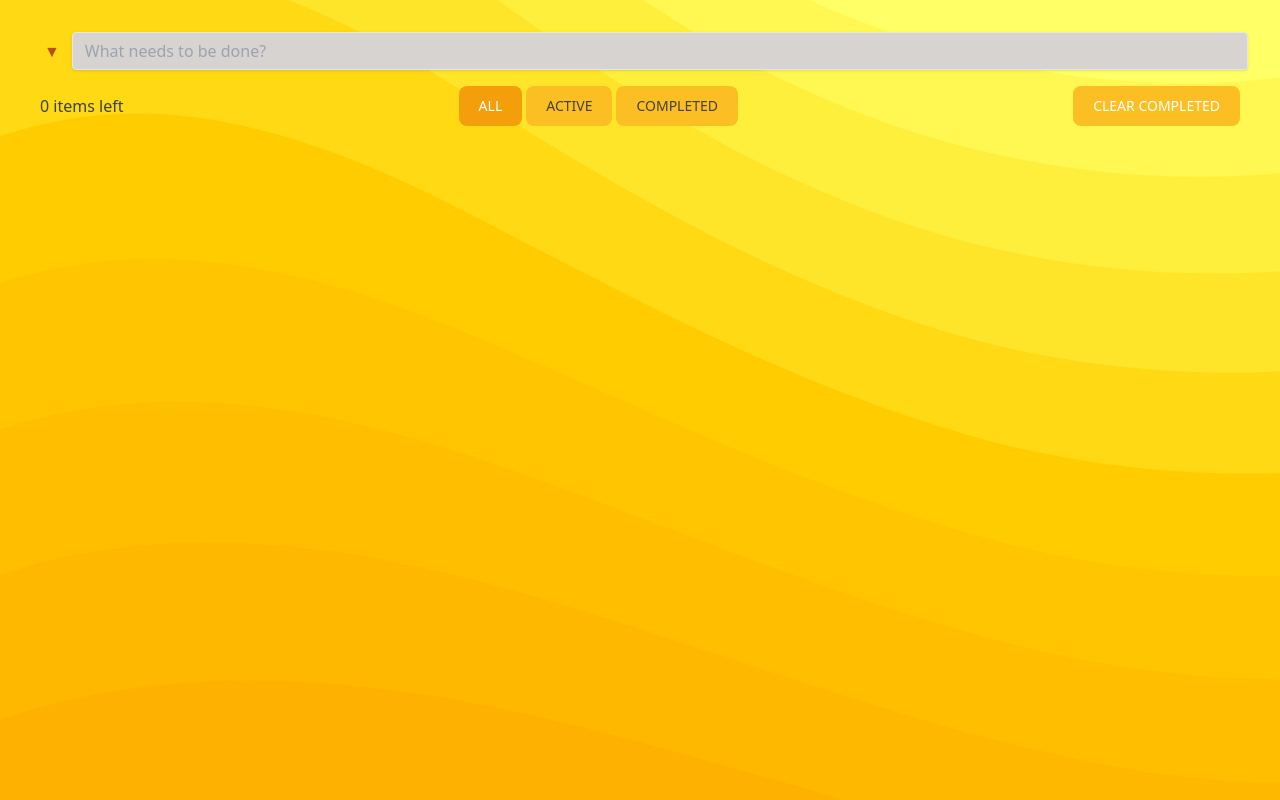
Test: Main › click on checkbox to make it completed
The width and height of the screenshot is (1280, 800).
Type "Test todo" into the field with placeholder "What needs to be done?".
click(660, 51); type("Test todo")  # box [72,32,1248,70]
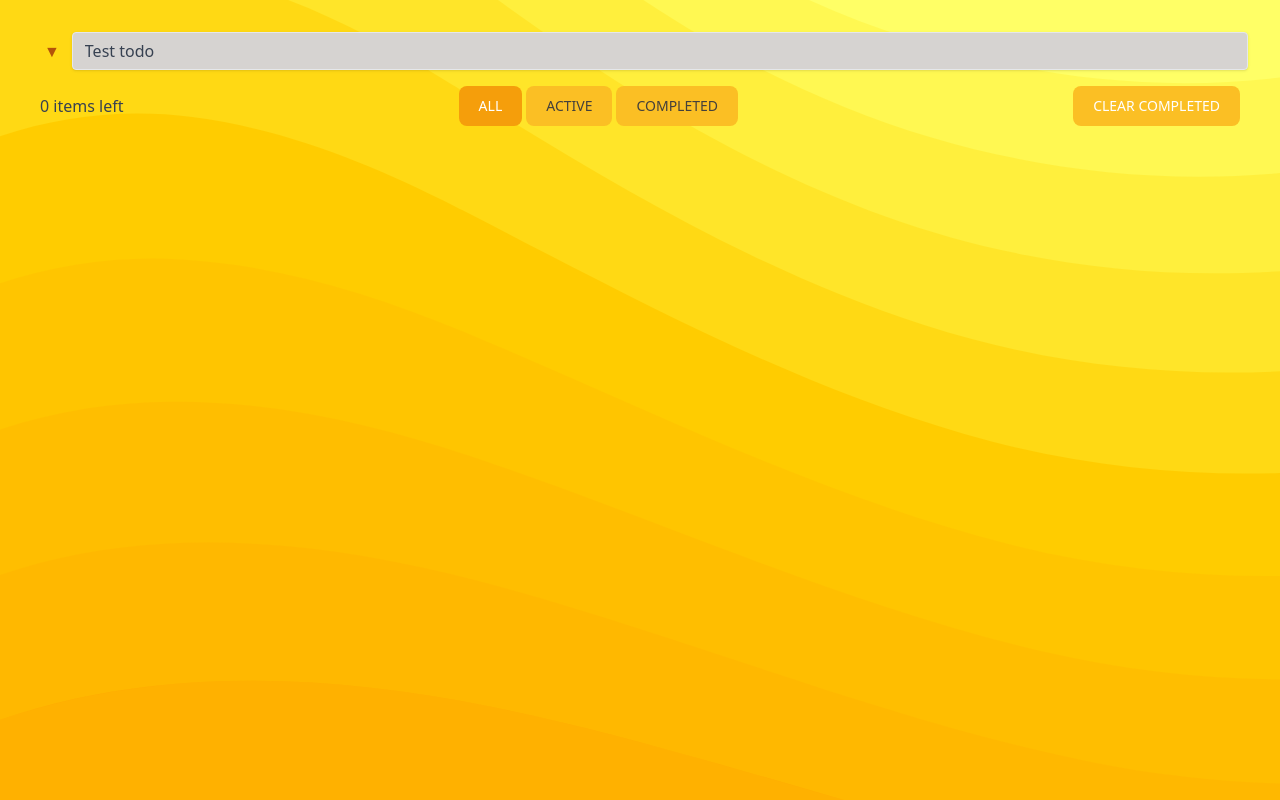
Press Enter in the field with placeholder "What needs to be done?", box [72,32,1248,70]
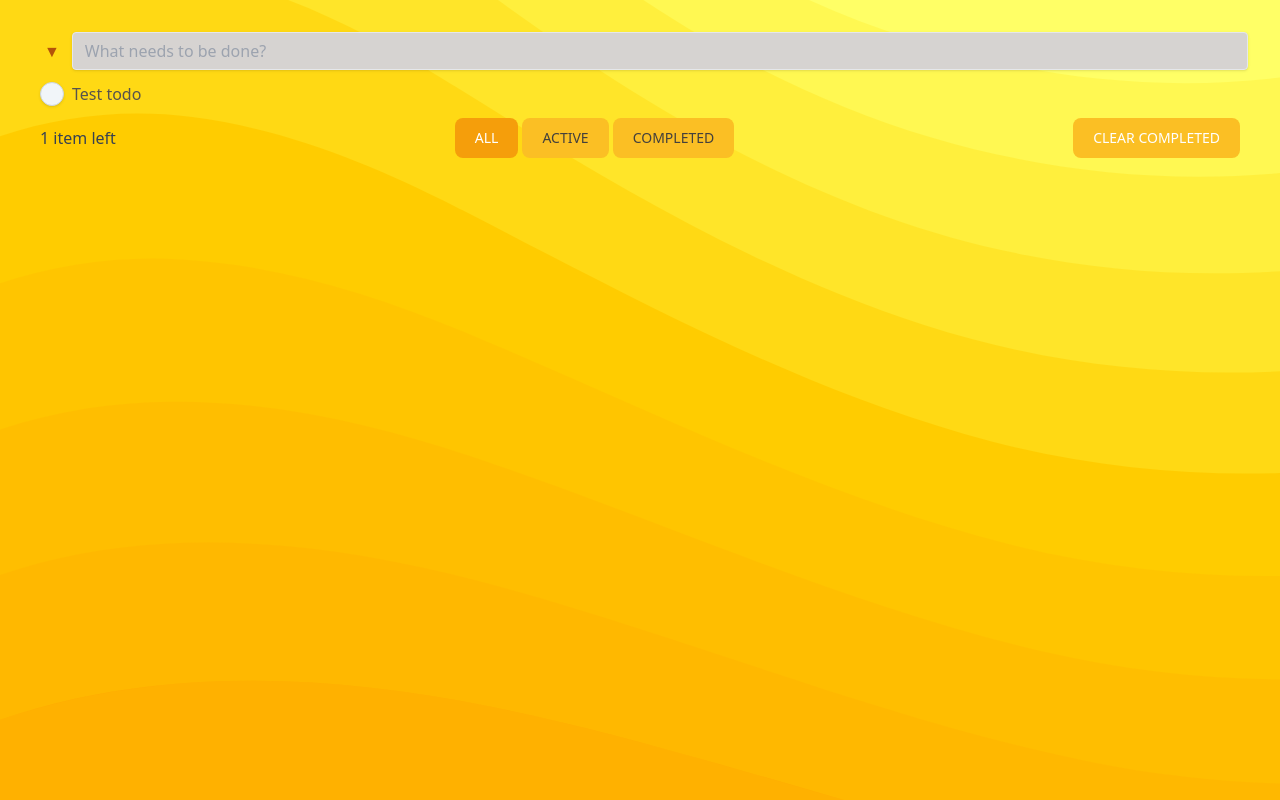
Click the checkbox.
click(52, 94)  # box [40,82,64,106]
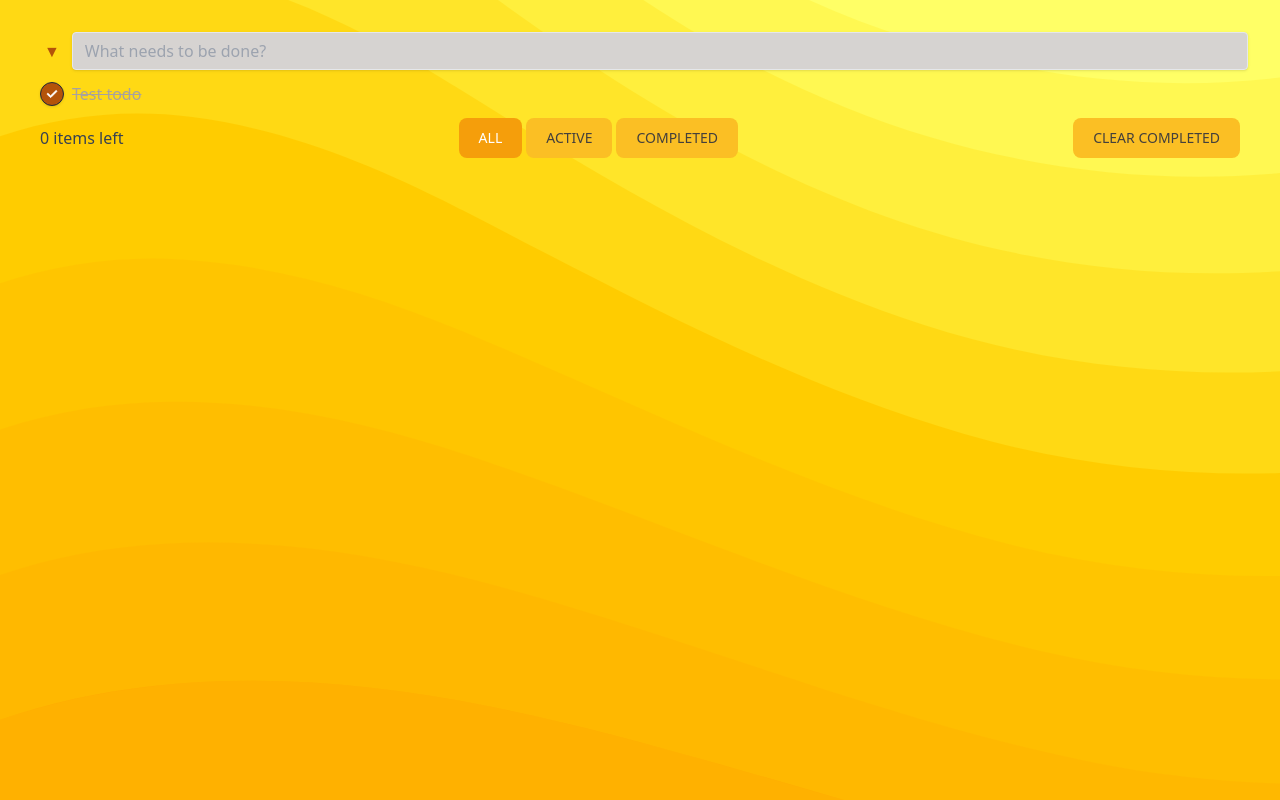
expect the text "0 items left" is shown: met, box [40,126,124,150]
